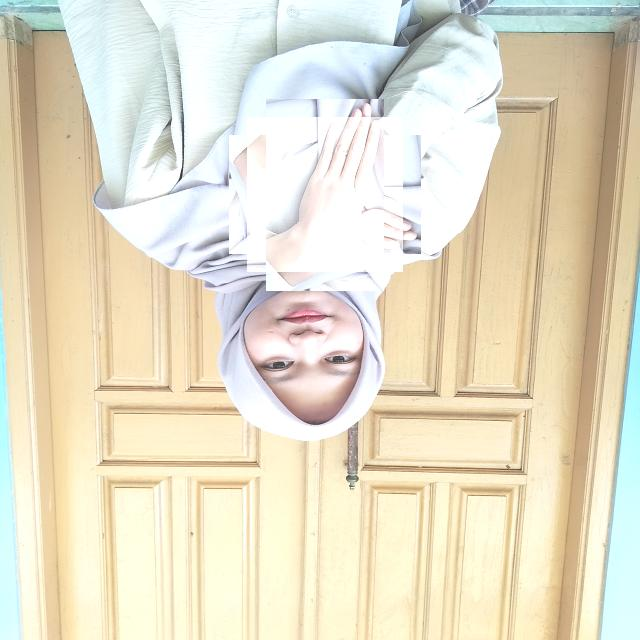tolong: (247, 117, 403, 272)
